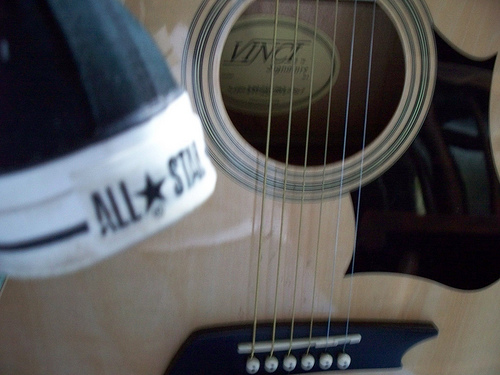guitar: (54, 1, 500, 375)
